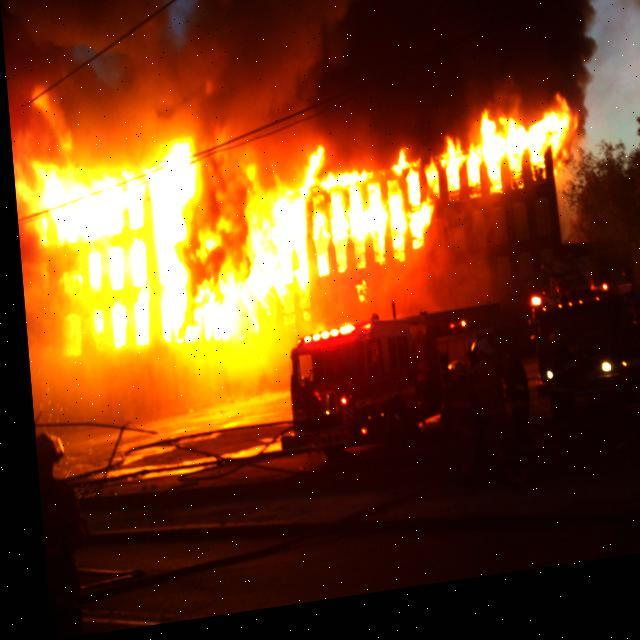Fire: (19, 144, 208, 364), (232, 159, 439, 309), (420, 120, 579, 210), (183, 277, 263, 365)
